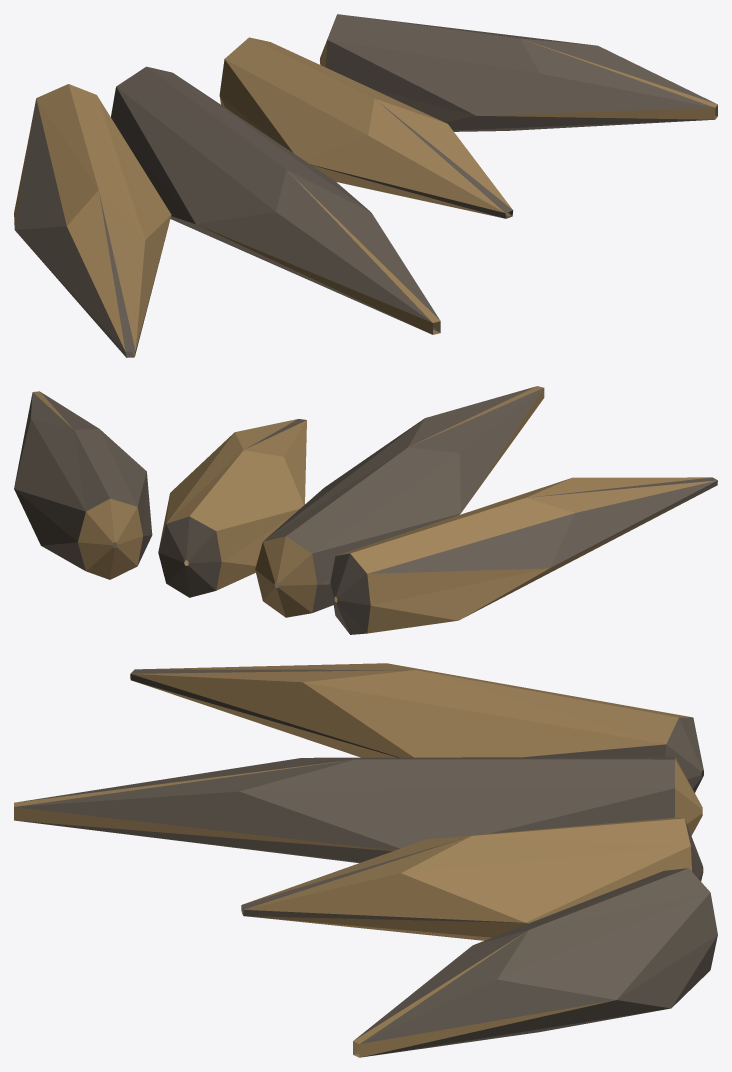
The model's file is orange zinnia seeds.fbx.
3 views of the same model, one above another, from view 1: azimuth 30°, elevation 25°; view 2: azimuth 150°, elevation 25°; view 3: azimuth 270°, elevation 25° (orthographic). The views are drawn at different scales.
Visible parts, largest first — view 1: orange_zinnia_seeds; view 2: orange_zinnia_seeds; view 3: orange_zinnia_seeds.
Part boxes in pixels (bbox=[...]): orange_zinnia_seeds: bbox=[14, 14, 717, 357]; orange_zinnia_seeds: bbox=[14, 386, 717, 634]; orange_zinnia_seeds: bbox=[14, 663, 717, 1057].
Size of the model in its own units: 4.16 by 0.5405 by 3.24.
